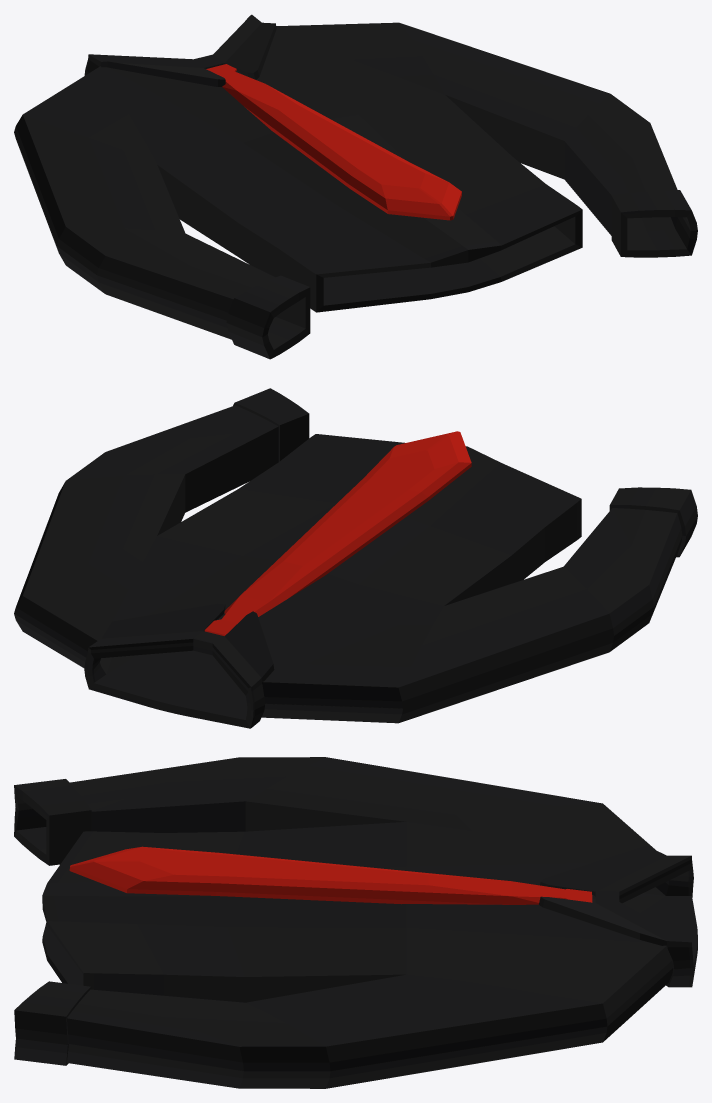
The model's file is Suit 2.fbx.
3 views of the same model, one above another, from view 1: azimuth 30°, elevation 25°; view 2: azimuth 150°, elevation 25°; view 3: azimuth 270°, elevation 25° (orthographic). The views are drawn at different scales.
Visible parts, largest first — view 1: Node 0; view 2: Node 0; view 3: Node 0.
Boxes of the visible parts, <box> form: Node 0: <box>14,14,697,359</box>; Node 0: <box>14,388,697,728</box>; Node 0: <box>14,757,697,1088</box>.
Bounding box in the file's own units: 1.07 × 0.1493 × 1.09.
